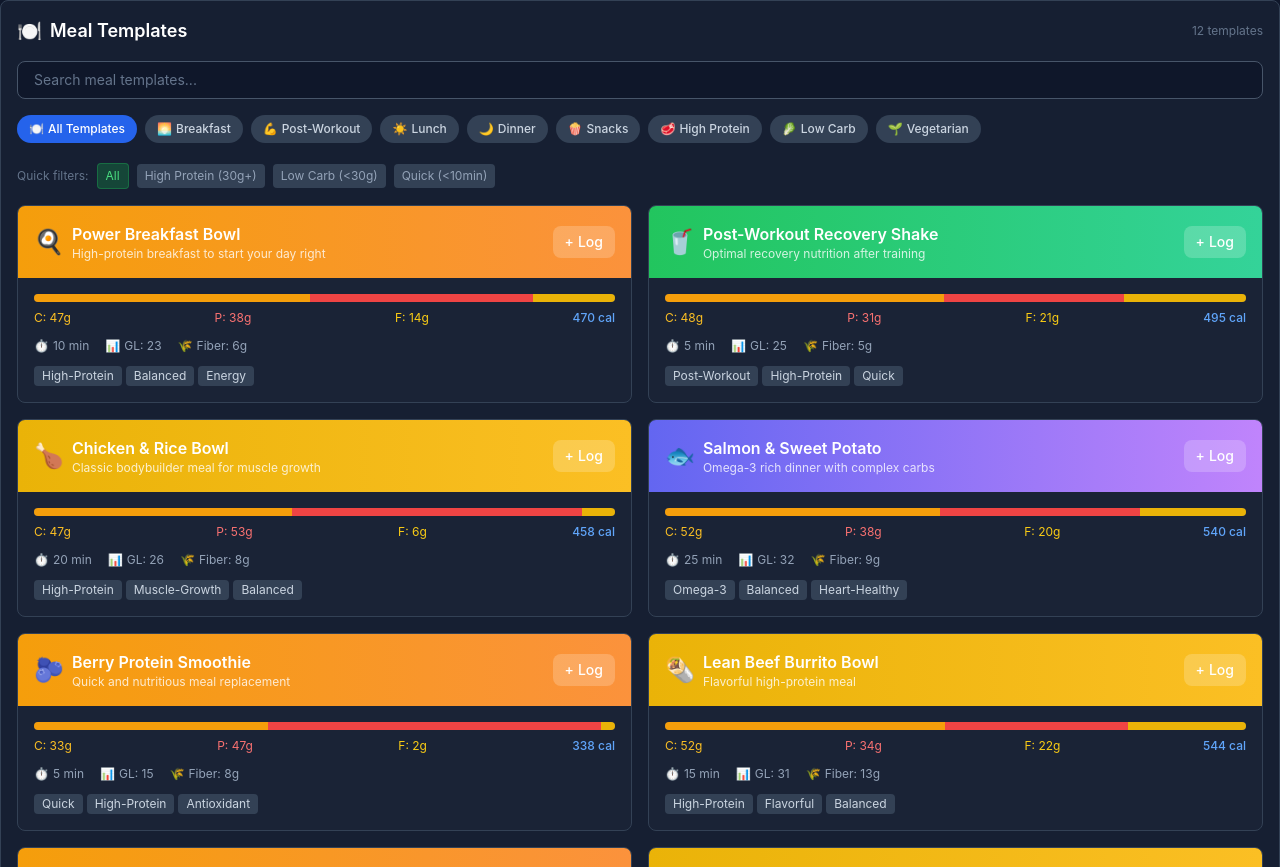
Scenario: MealTemplates Component › Category Filtering › should show all templates when All is selected
This screenshot has width=1280, height=867.
Click the text "Lunch" at (429, 129), box [411,121,447,137]
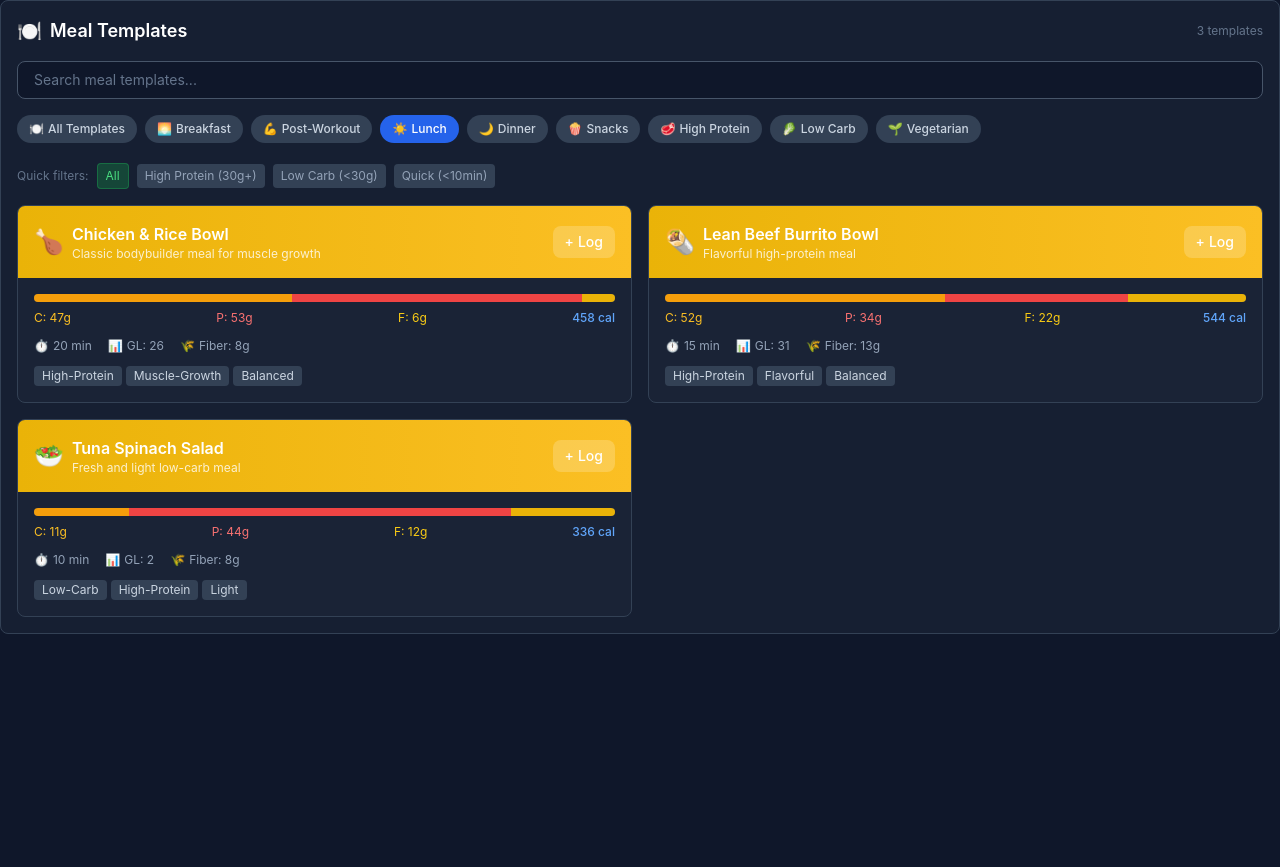
Click the text "All Templates" at (87, 129), box [48,121,125,137]
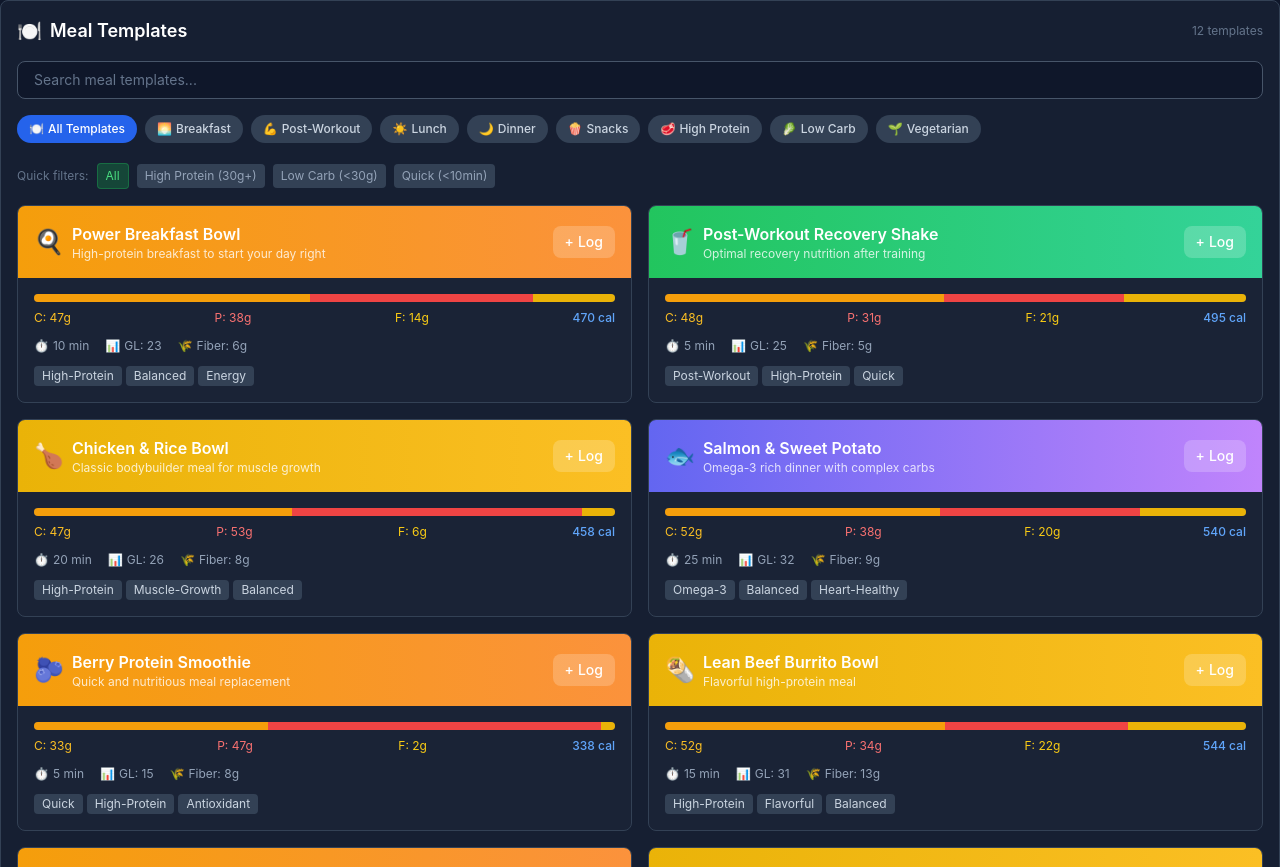
Expected: the heading "Power Breakfast Bowl" is shown, [72,224,240,244]
Expected: the heading "Post-Workout Recovery Shake" is shown, [703,222,938,246]
